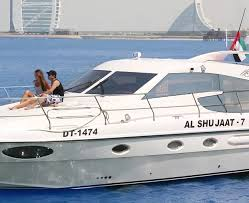tau_dansu: (5, 48, 249, 192)
